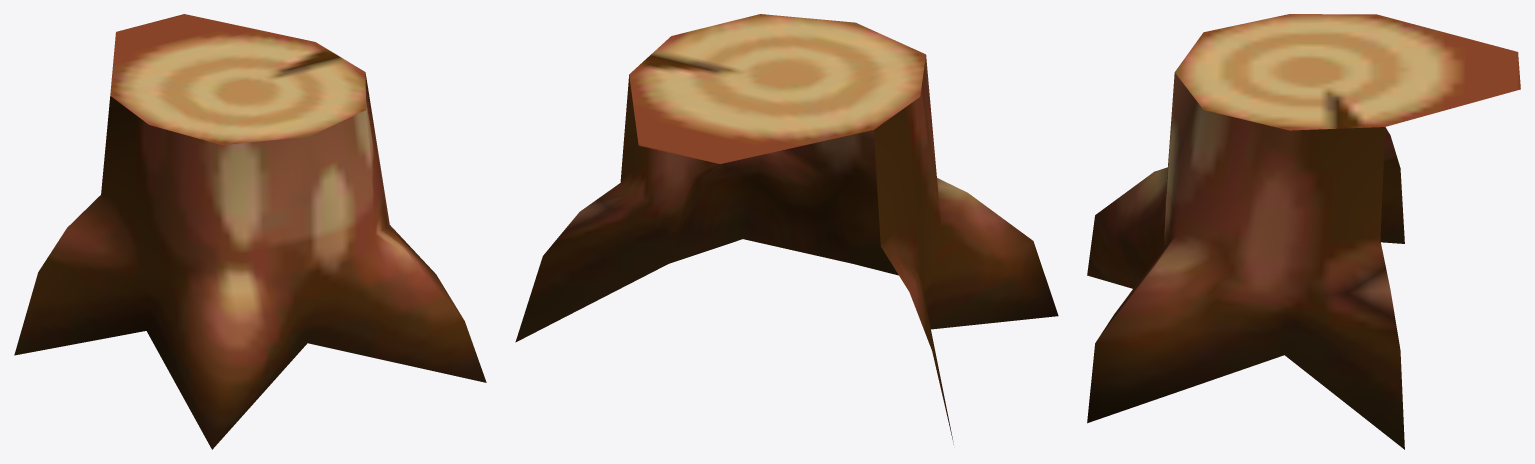
Rendered from fg_treeB_4_b.dae.
3 views of the same model, side by side, from view 1: azimuth 30°, elevation 25°; view 2: azimuth 150°, elevation 25°; view 3: azimuth 270°, elevation 25° (orthographic). The views are drawn at different scales.
Visible parts, largest first — view 1: fg_treeB_4_b; view 2: fg_treeB_4_b; view 3: fg_treeB_4_b.
Part boxes in pixels (x1=…): fg_treeB_4_b: x1=14, y1=14, x2=486, y2=449; fg_treeB_4_b: x1=515, y1=14, x2=1058, y2=444; fg_treeB_4_b: x1=1087, y1=14, x2=1520, y2=449.
Size of the model in its own units: 31.18 by 19.55 by 27.75.
1 material, 1 textured.
